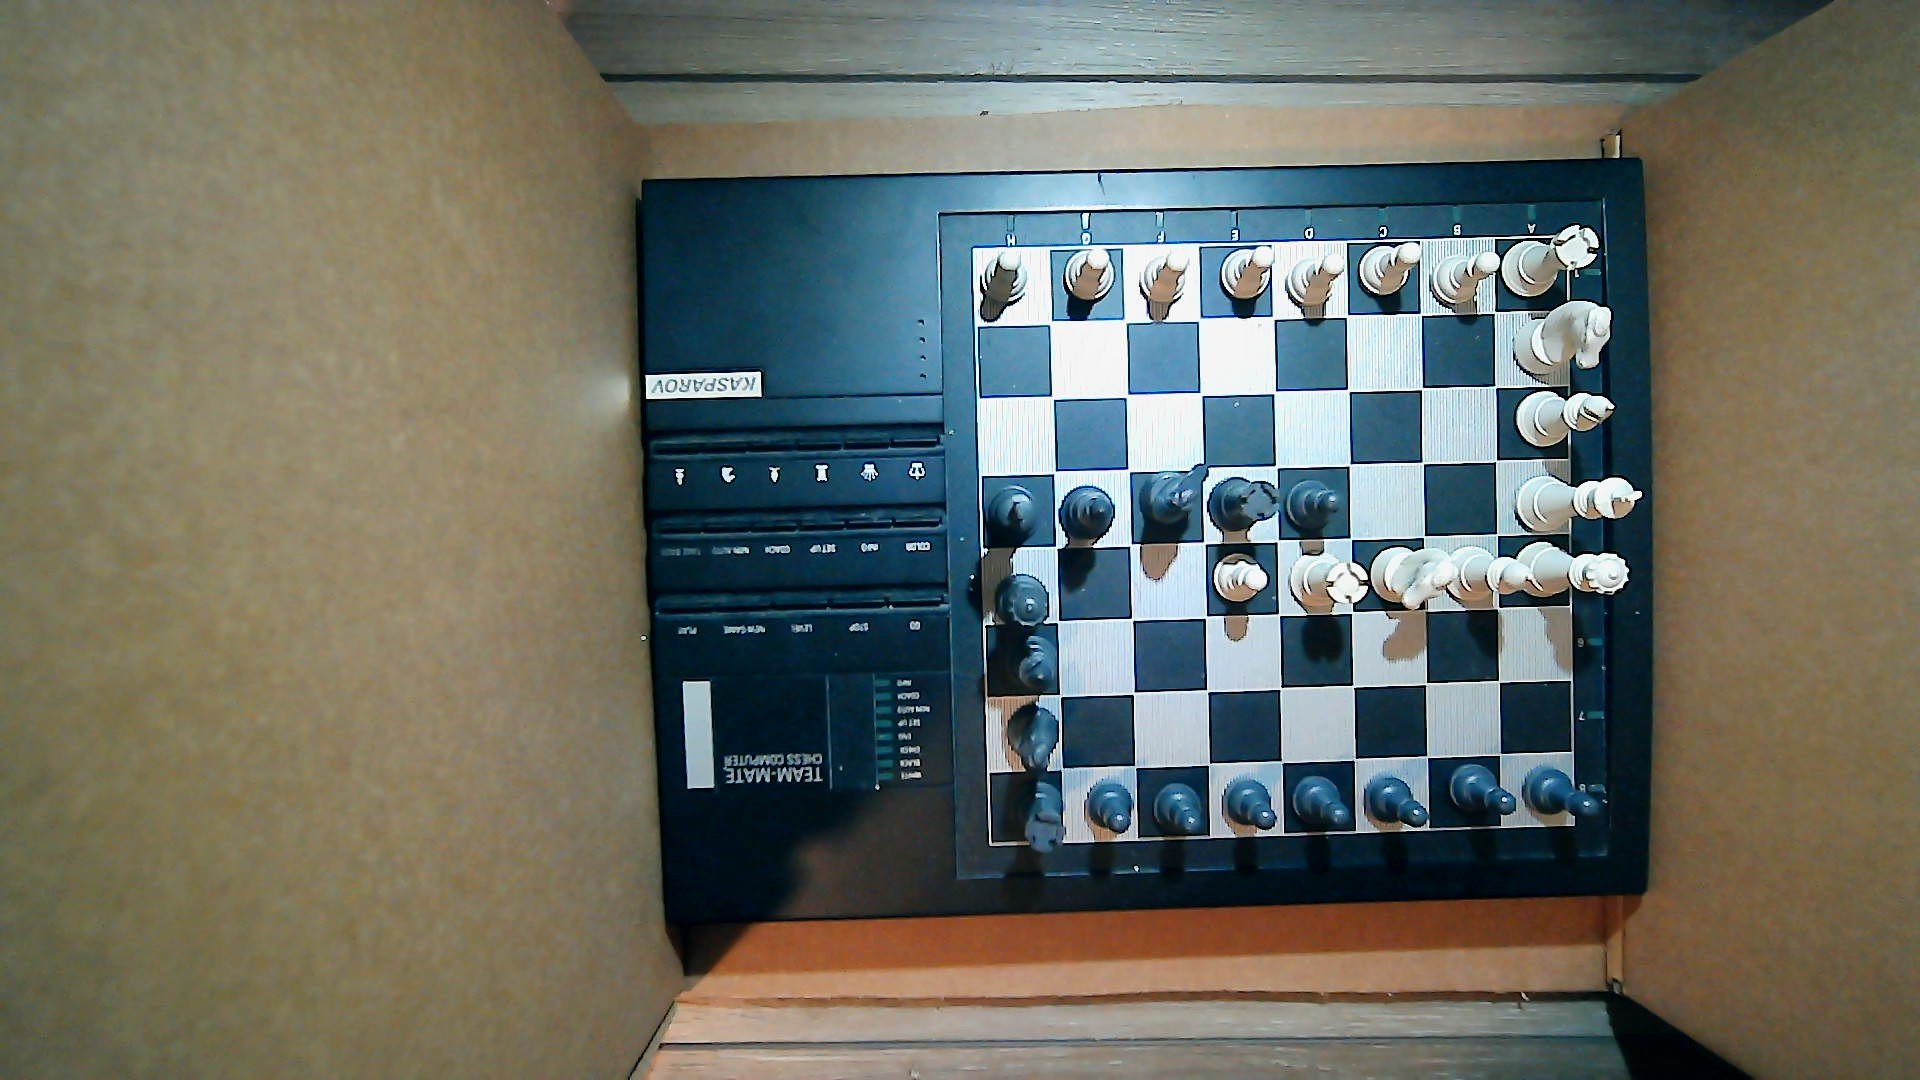bbishop: (1002, 636, 1062, 696), (1058, 484, 1116, 543)
bking: (990, 484, 1039, 543)
bknight: (1139, 462, 1211, 529), (1004, 698, 1063, 775)
bpawn: (1447, 764, 1518, 822), (1522, 765, 1600, 818), (1362, 777, 1429, 829), (1224, 775, 1279, 832), (1294, 775, 1352, 829), (1151, 783, 1207, 836), (1286, 477, 1338, 531), (1083, 782, 1135, 836)
bqueen: (993, 574, 1052, 630)
brook: (1007, 782, 1069, 855), (1208, 475, 1280, 530)
wbishop: (1515, 389, 1617, 448), (1444, 545, 1535, 604)
wking: (1514, 473, 1644, 531)
wknight: (1511, 301, 1614, 376), (1369, 546, 1458, 611)
wpawn: (1429, 249, 1499, 305), (1358, 243, 1425, 298), (1220, 244, 1276, 301), (1138, 248, 1193, 306), (1286, 255, 1346, 305), (1213, 550, 1269, 604), (1063, 247, 1116, 301), (980, 251, 1031, 305)
wqueen: (1520, 538, 1631, 593)
wrook: (1288, 550, 1370, 607)
